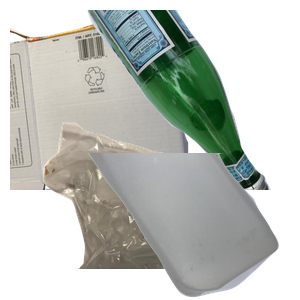cardboard: (10, 10, 191, 190)
glass: (75, 10, 300, 190)
plastic: (84, 153, 300, 300)
trash: (41, 120, 276, 300)
